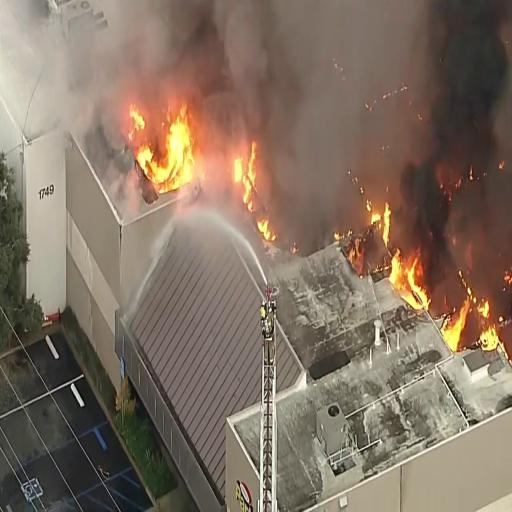fire: (120, 102, 195, 197), (382, 239, 432, 313), (445, 305, 475, 349)
smoke: (188, 0, 391, 119), (433, 0, 512, 178)
